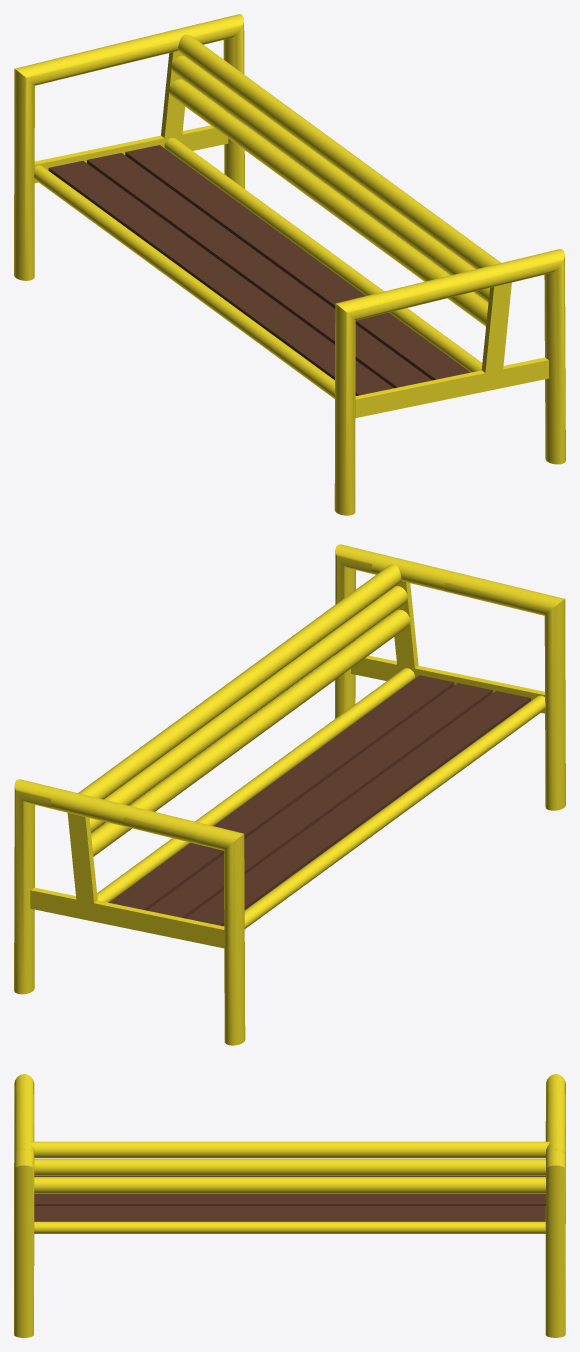
File: bancoamarillo.fbx
3 views of the same model, one above another, from view 1: azimuth 30°, elevation 25°; view 2: azimuth 150°, elevation 25°; view 3: azimuth 270°, elevation 25° (orthographic). The views are drawn at different scales.
Visible parts, largest first — view 1: Banco Pasillo Final; view 2: Banco Pasillo Final; view 3: Banco Pasillo Final.
Boxes of the visible parts, x1,y1,x2,y2 form: Banco Pasillo Final: (14, 14, 565, 515); Banco Pasillo Final: (14, 544, 565, 1045); Banco Pasillo Final: (14, 1074, 565, 1337).
Bounding box in the file's own units: 74.86 × 65.48 × 190.
Materials: 1 (1 with a texture image).
